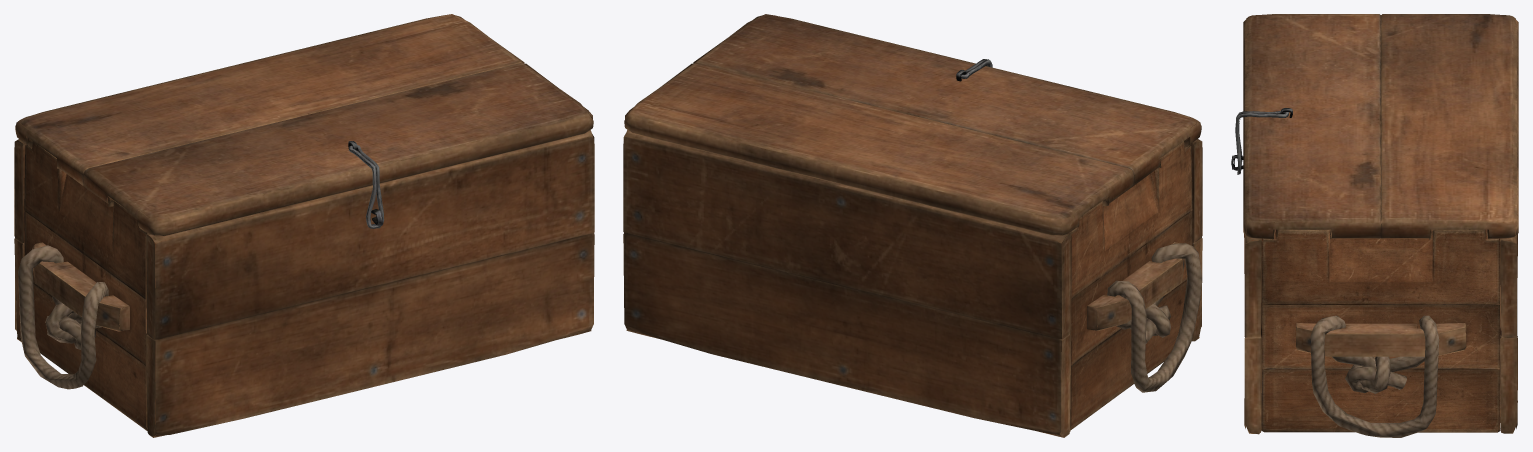
The model's file is wooden_crate_01.glb.
3 renders of one model, left to right at view 1: azimuth 30°, elevation 25°; view 2: azimuth 150°, elevation 25°; view 3: azimuth 270°, elevation 25°, orthographic. The views are drawn at different scales.
Parts seen in each view (by area): view 1: wooden_crate_01; view 2: wooden_crate_01; view 3: wooden_crate_01.
Boxes of the visible parts, <box> form: wooden_crate_01: <box>14,14,594,437</box>; wooden_crate_01: <box>623,14,1202,437</box>; wooden_crate_01: <box>1231,14,1518,437</box>.
Size of the model in its own units: 0.8247 by 0.3487 by 0.4088.
Materials: 1 (1 with a texture image).
